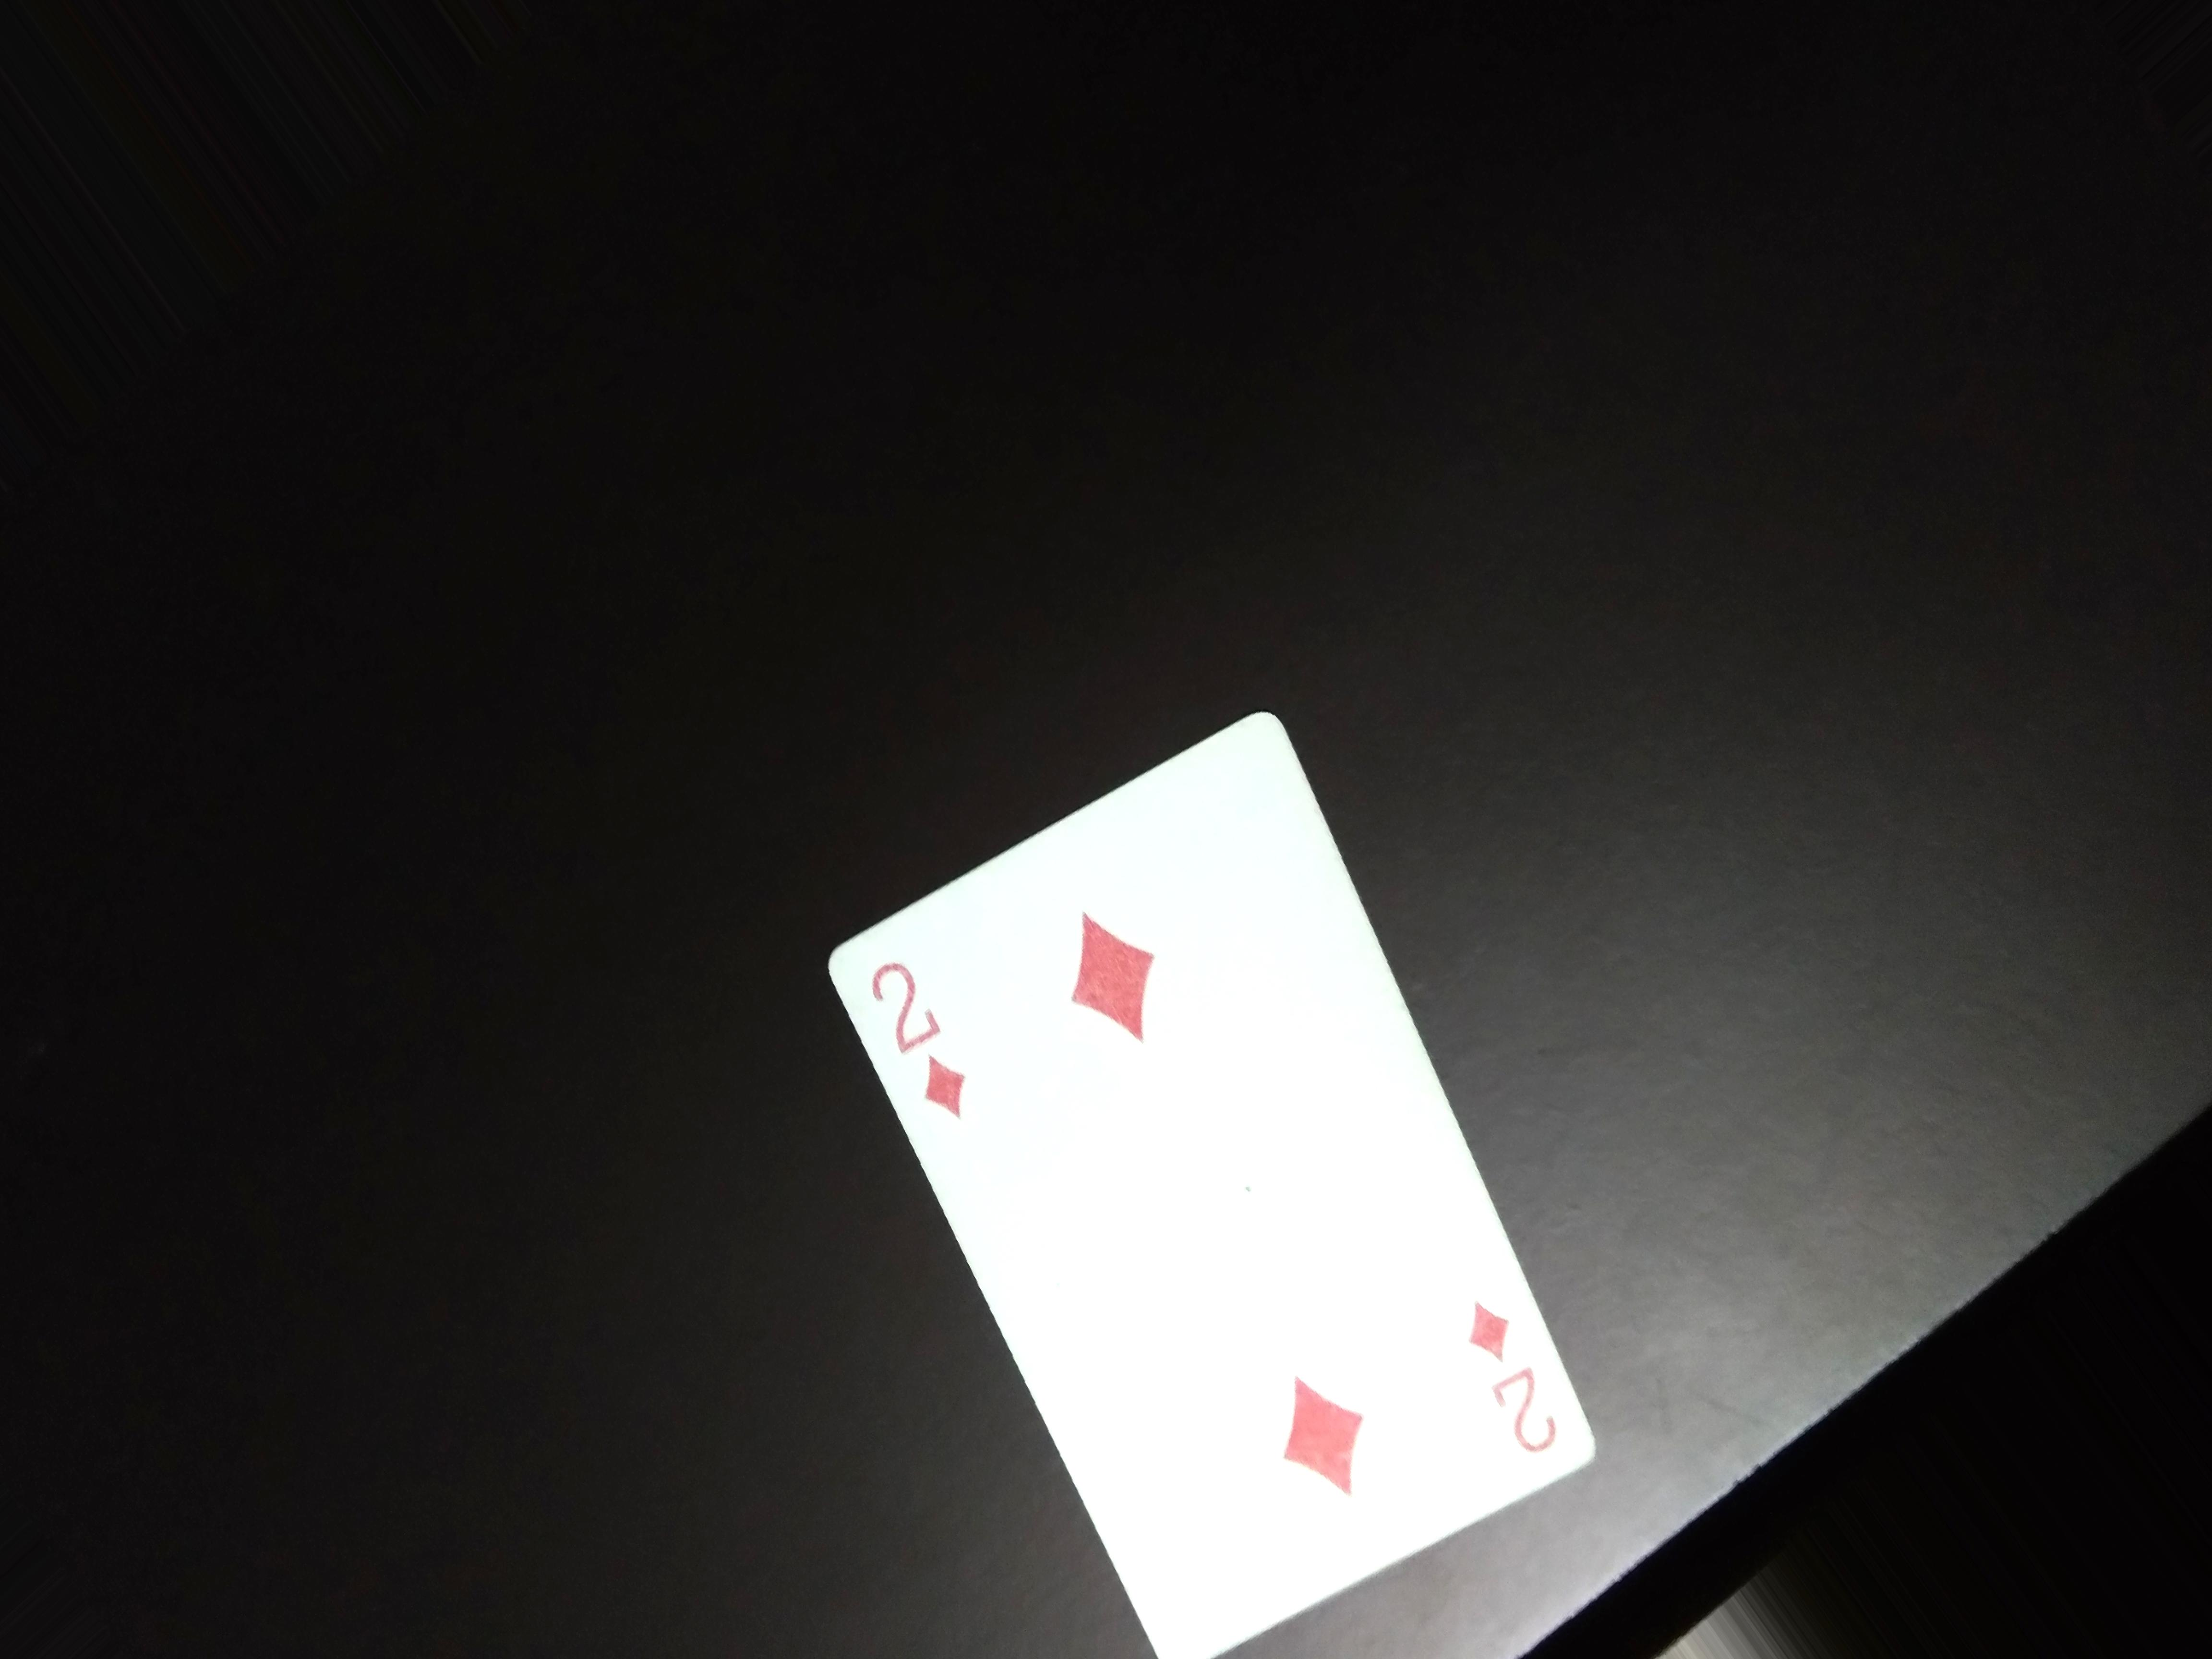2D: (1449, 1297, 1571, 1469)
